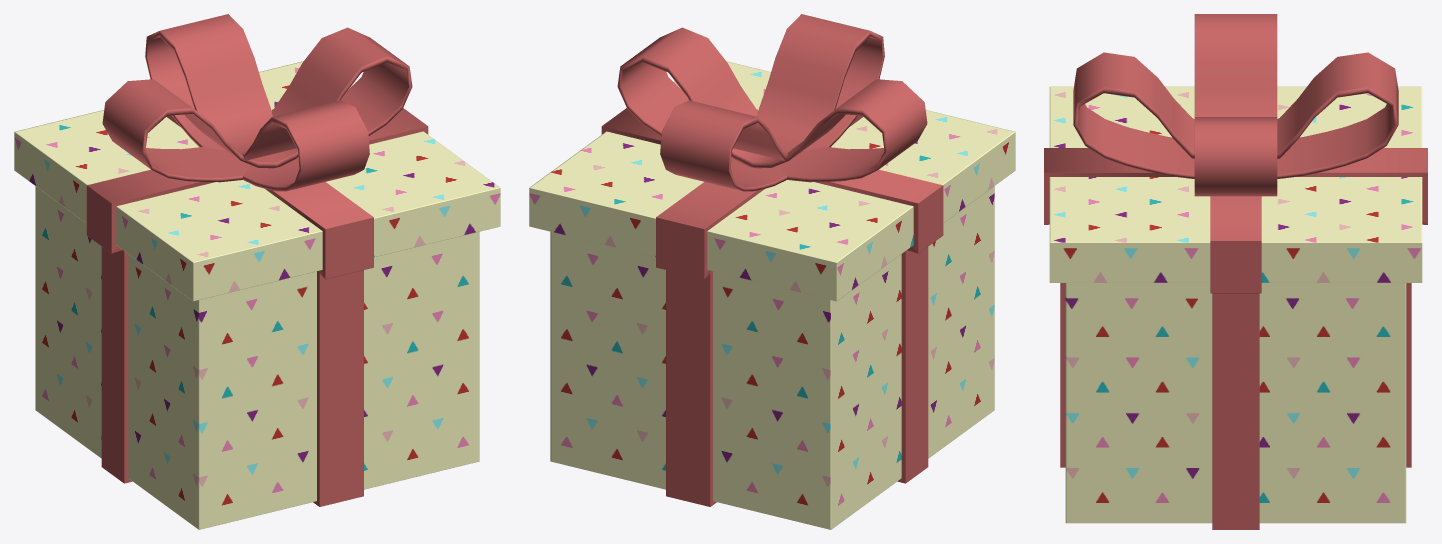
File: Caja-PREMIOsorpresa.fbx
The picture shows the model from 3 angles, left to right: view 1: azimuth 30°, elevation 25°; view 2: azimuth 150°, elevation 25°; view 3: azimuth 270°, elevation 25°; orthographic projection. The views are drawn at different scales.
Visible parts, largest first — view 1: Caja_Premio_Sorpresa; view 2: Caja_Premio_Sorpresa; view 3: Caja_Premio_Sorpresa.
Part boxes in pixels (bbox=[...]): Caja_Premio_Sorpresa: bbox=[14, 14, 500, 529]; Caja_Premio_Sorpresa: bbox=[529, 14, 1015, 529]; Caja_Premio_Sorpresa: bbox=[1044, 14, 1427, 529].
Bounding box in the file's own units: 67.71 × 75.86 × 68.27.
